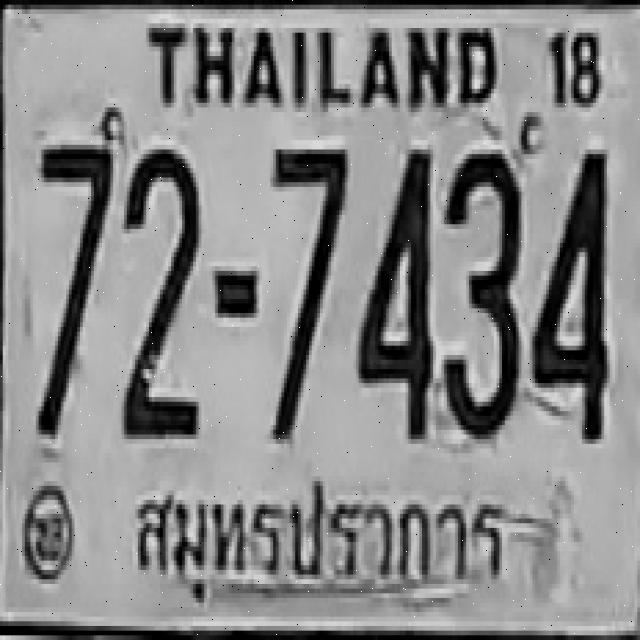2: (120, 144, 200, 434)
3: (443, 150, 520, 440)
4: (531, 145, 608, 439), (356, 144, 433, 434)
7: (36, 140, 113, 439), (270, 145, 348, 439)
SamutPrakan: (130, 464, 520, 616)
